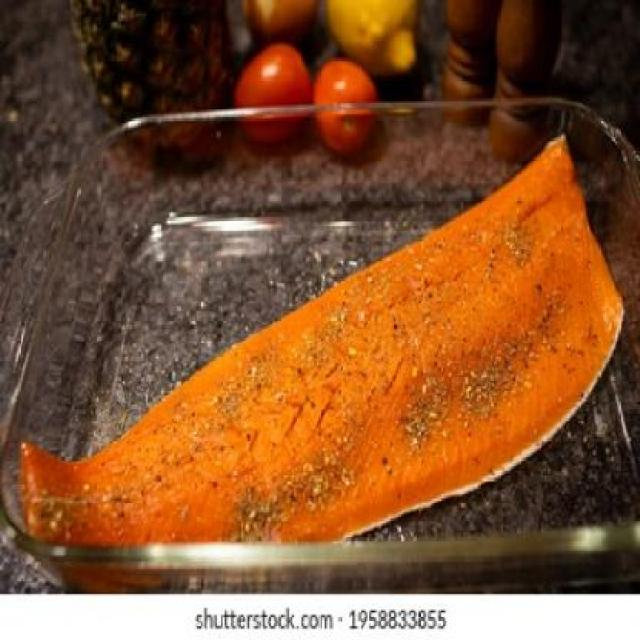salmon: (20, 131, 624, 565)
